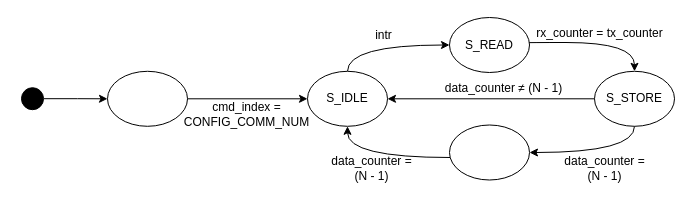
The diagram is 692 pixels wide and 200 high, and some of its shapes have lost their labels. The shapes that lost their labels are listed below. From the top down, each one's centre as x and y in pixels, then its label:
At (147,98): "S_CONFIG".
At (489,152): "S_SEND".
